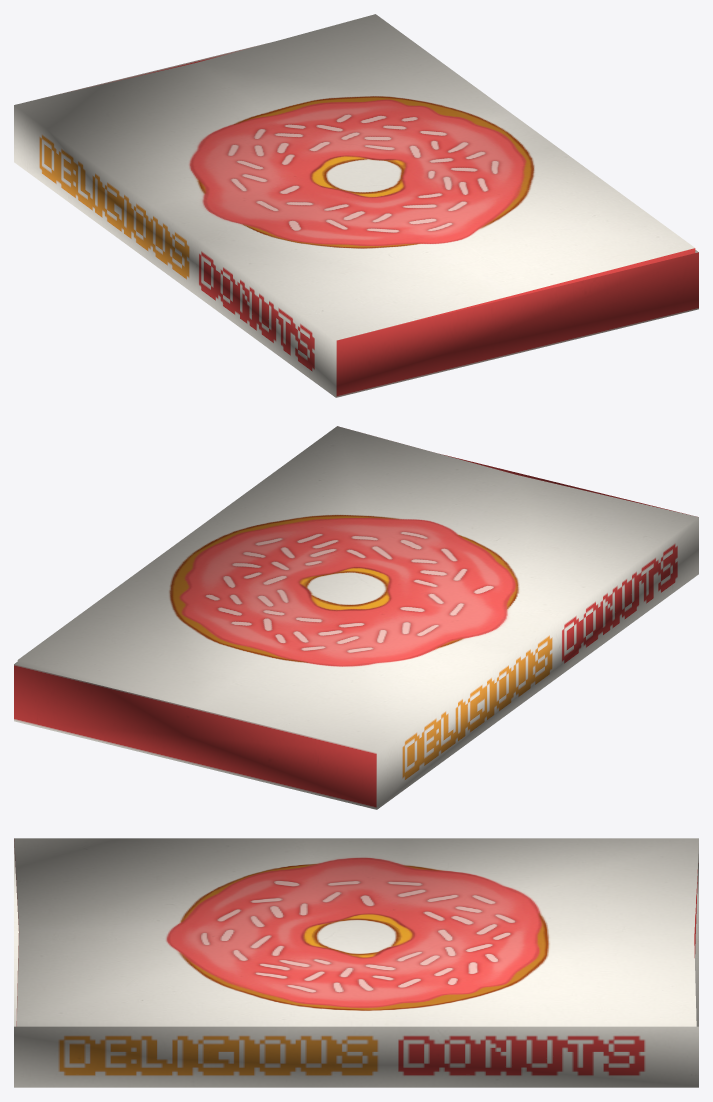
Rendered from FFHP_MOD_Donut_box_closed.fbx.
3 views of the same model, one above another, from view 1: azimuth 30°, elevation 25°; view 2: azimuth 150°, elevation 25°; view 3: azimuth 270°, elevation 25° (orthographic). The views are drawn at different scales.
Parts seen in each view (by area): view 1: FFHP_MOD_Donut_box_closed; view 2: FFHP_MOD_Donut_box_closed; view 3: FFHP_MOD_Donut_box_closed.
Part boxes in pixels (box(x1,y1,x2,y2)): FFHP_MOD_Donut_box_closed: box(14, 14, 698, 397); FFHP_MOD_Donut_box_closed: box(14, 426, 698, 809); FFHP_MOD_Donut_box_closed: box(14, 838, 698, 1087).
Bounding box in the file's own units: 0.8853 × 0.1423 × 1.36.
